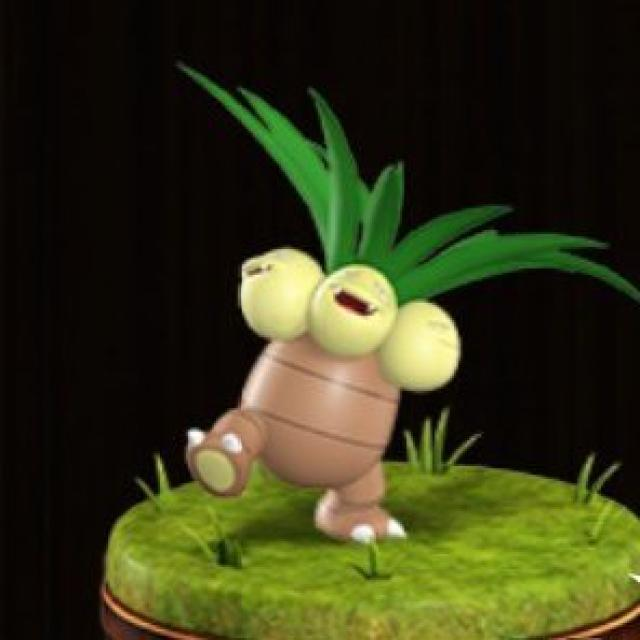Exeggutor: (145, 184, 589, 567)
